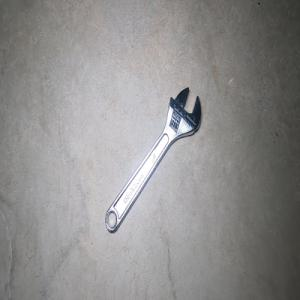Wrench: (105, 87, 201, 232)
